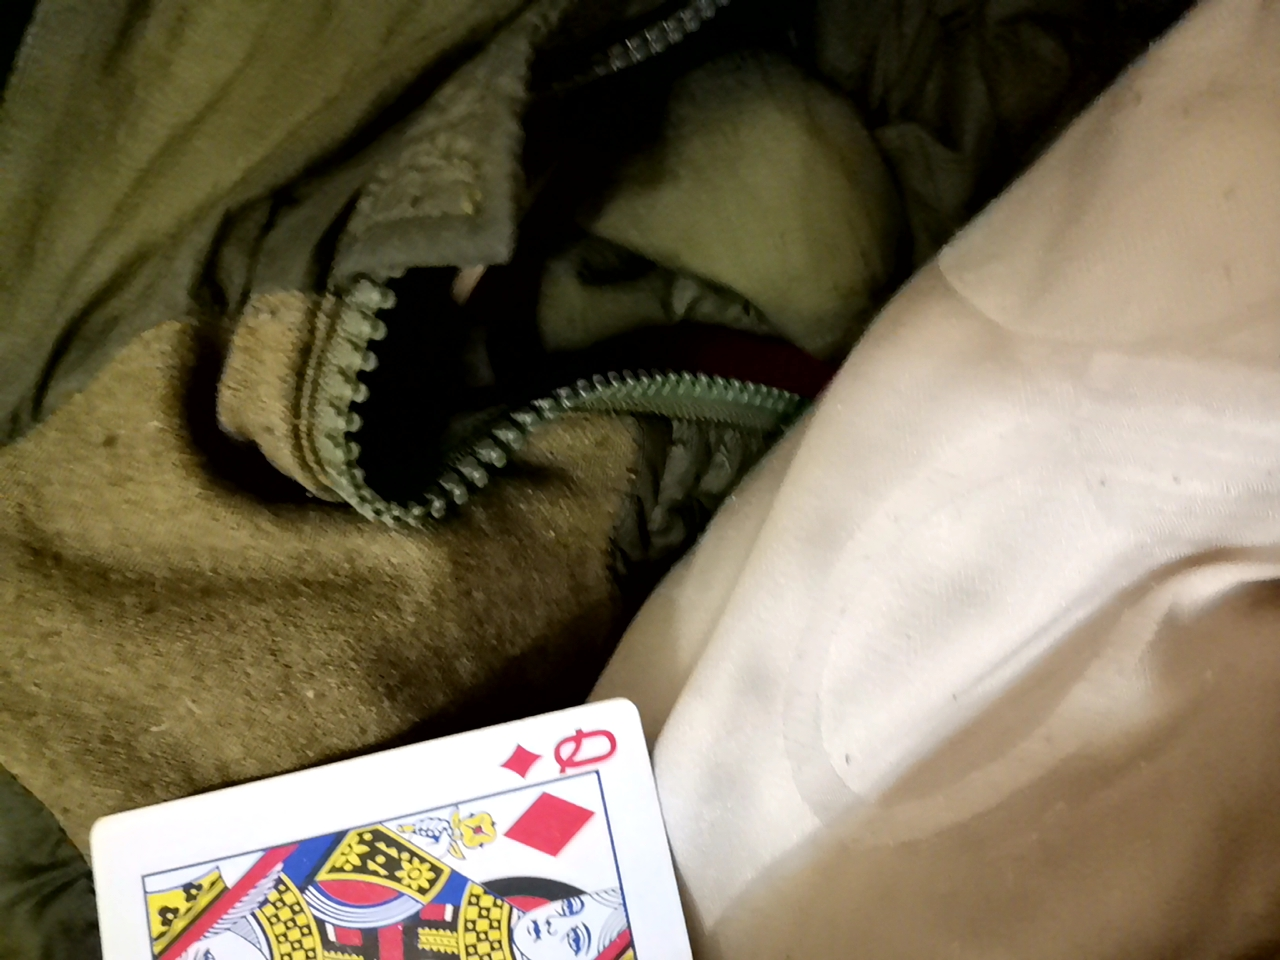fk q: (56, 733, 735, 956)
